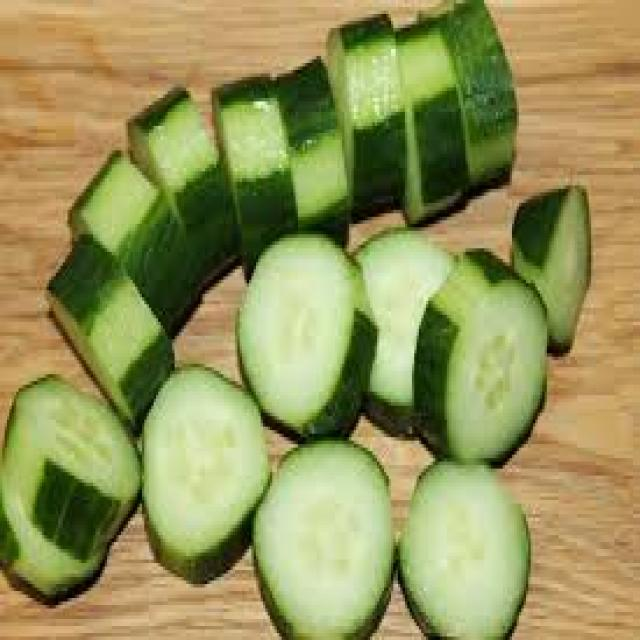cucumber: (144, 42, 356, 247), (330, 0, 507, 222), (411, 238, 561, 478), (48, 160, 198, 398), (0, 358, 142, 602), (138, 332, 269, 582), (253, 426, 395, 640), (235, 223, 375, 438), (347, 213, 472, 434), (392, 439, 528, 640), (504, 174, 603, 358)
